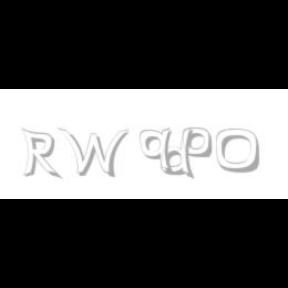O: (216, 128, 260, 174)
R: (21, 128, 59, 180)
W: (57, 128, 129, 178)
d: (161, 128, 198, 180)
o: (182, 128, 212, 158)
q: (139, 128, 175, 176)
